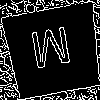M: (28, 25, 75, 79)
